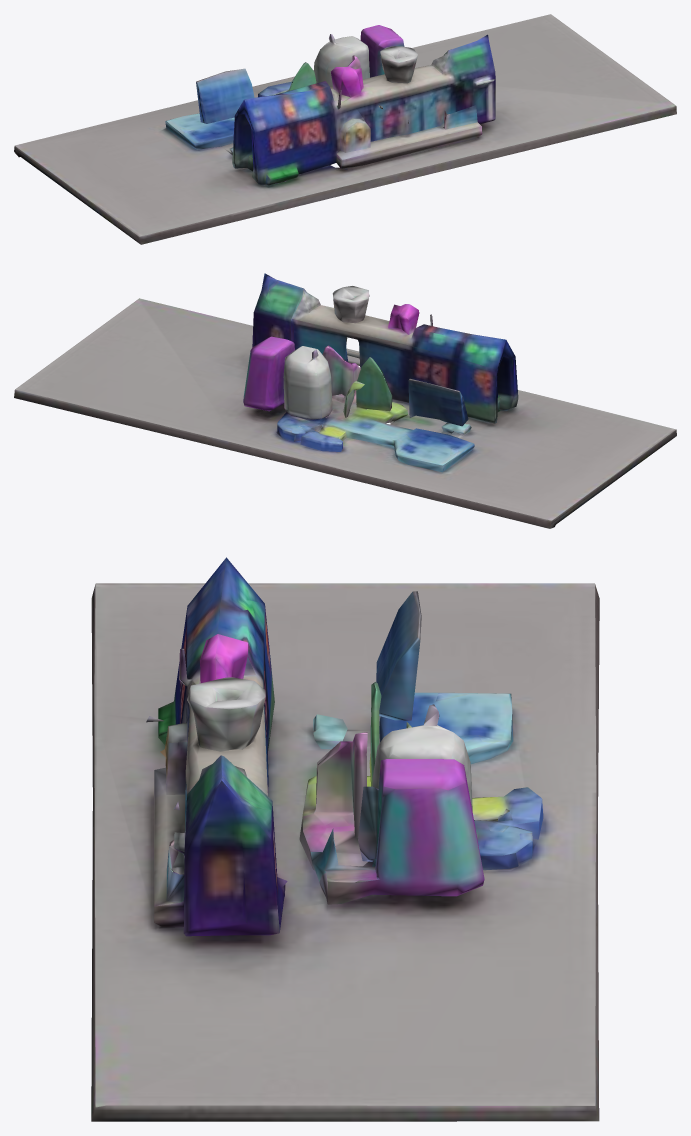
File: doll_house.glb
3 views of the same model, one above another, from view 1: azimuth 30°, elevation 25°; view 2: azimuth 150°, elevation 25°; view 3: azimuth 270°, elevation 25° (orthographic). The views are drawn at different scales.
Parts seen in each view (by area): view 1: doll_house; view 2: doll_house; view 3: doll_house.
Boxes of the visible parts, left/top/right/bottom form: doll_house: left=14, top=14, right=676, bottom=244; doll_house: left=14, top=273, right=676, bottom=528; doll_house: left=91, top=557, right=599, bottom=1121.
Size of the model in its own units: 1 by 0.1767 by 0.4103.
Materials: 1 (1 with a texture image).
